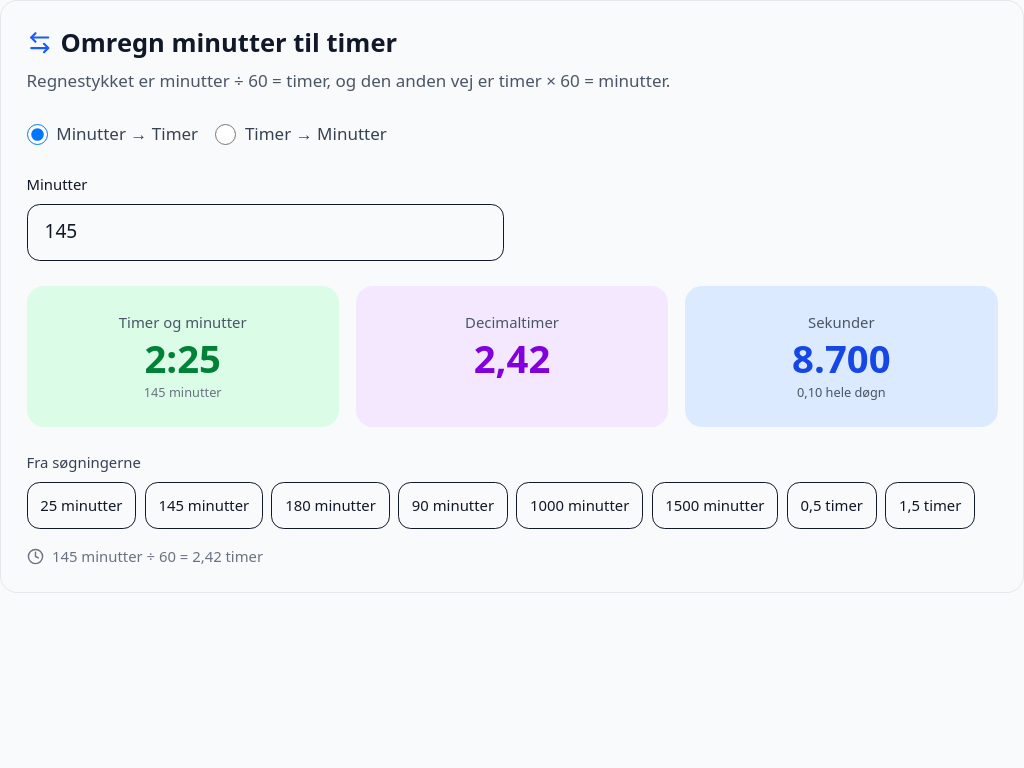
Test: MinutterTilTimerBeregner › timer → minutter ganger med 60, så 1,5 time er 90 minutter
Click the radio button labelled "Timer → Minutter" at (226, 134), box [215, 124, 236, 145]
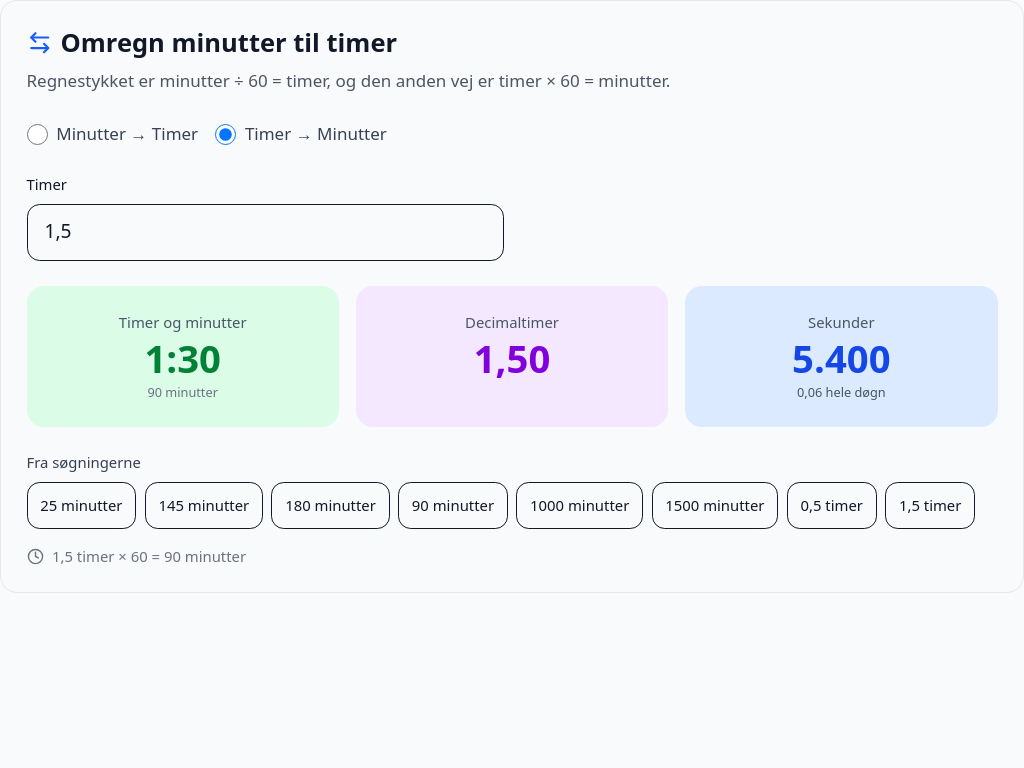
Expected: the field labelled "Timer" holds "1,5", [26, 204, 504, 261]
Expected: the text "1,5 timer × 60 = 90 minutter" is shown, [52, 546, 246, 567]
